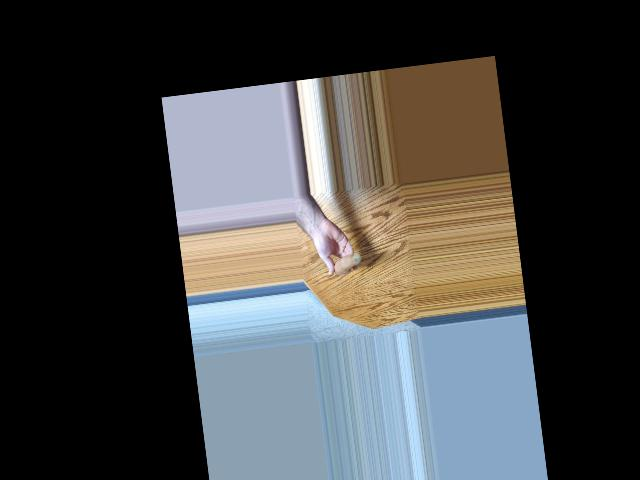sweet_potato: (330, 250, 362, 272)
